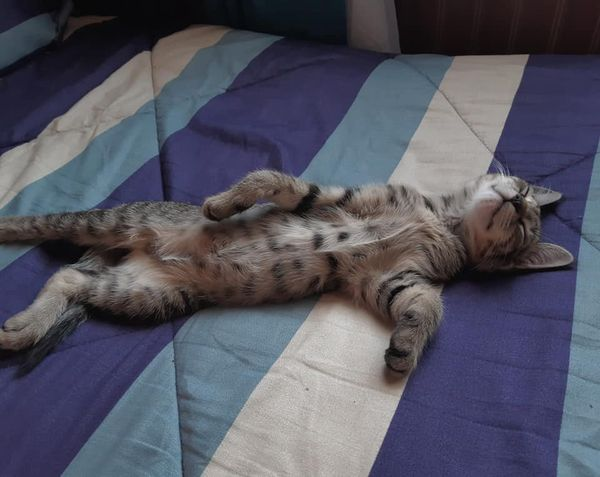cat: (1, 158, 589, 382)
